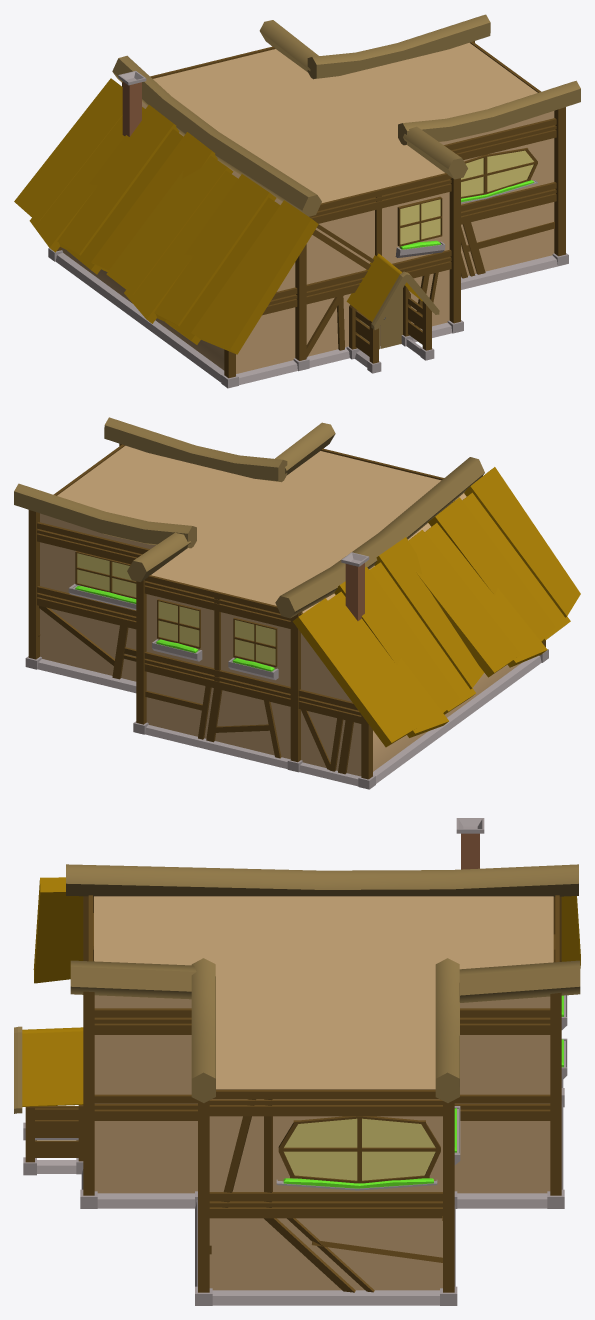
File: mesh_flat_house_T_section.fbx
3 renders of one model, top to bottom at view 1: azimuth 30°, elevation 25°; view 2: azimuth 150°, elevation 25°; view 3: azimuth 270°, elevation 25°, orthographic. The views are drawn at different scales.
Parts seen in each view (by area): view 1: flat_house_T_section; view 2: flat_house_T_section; view 3: flat_house_T_section.
Part boxes in pixels (box(x1,y1,x2,y2)): flat_house_T_section: box(14, 14, 580, 388); flat_house_T_section: box(14, 417, 580, 789); flat_house_T_section: box(14, 818, 580, 1305).
Bounding box in the file's own units: 1775 × 760 × 1487.
Materials: 1 (1 with a texture image).
